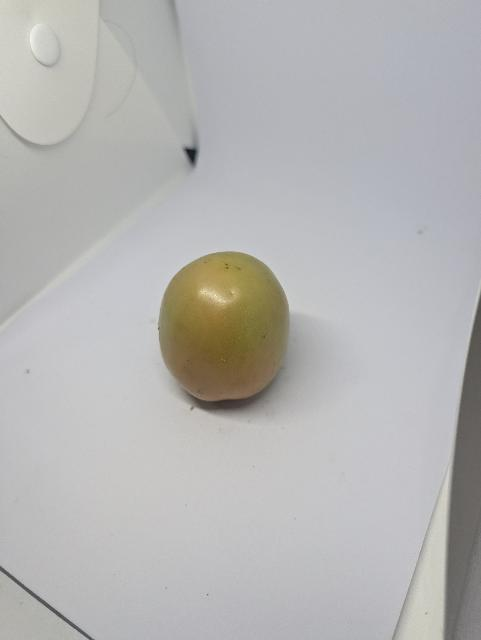breaker: (151, 245, 295, 413)
